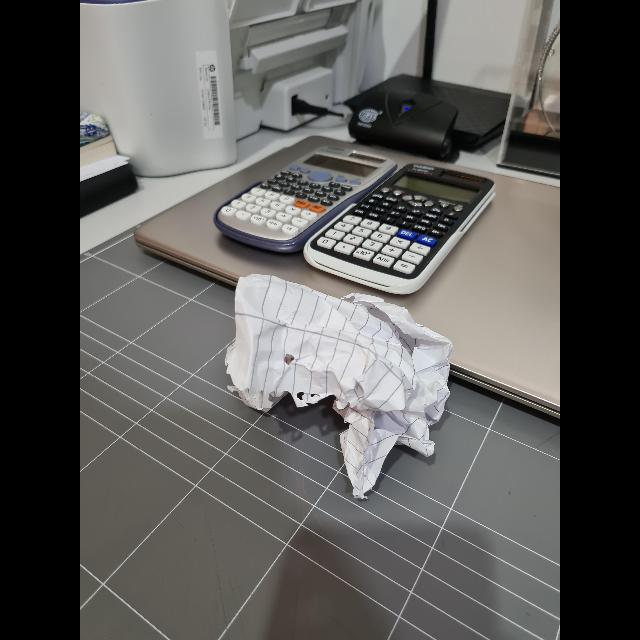scrap_paper: (225, 271, 453, 483)
